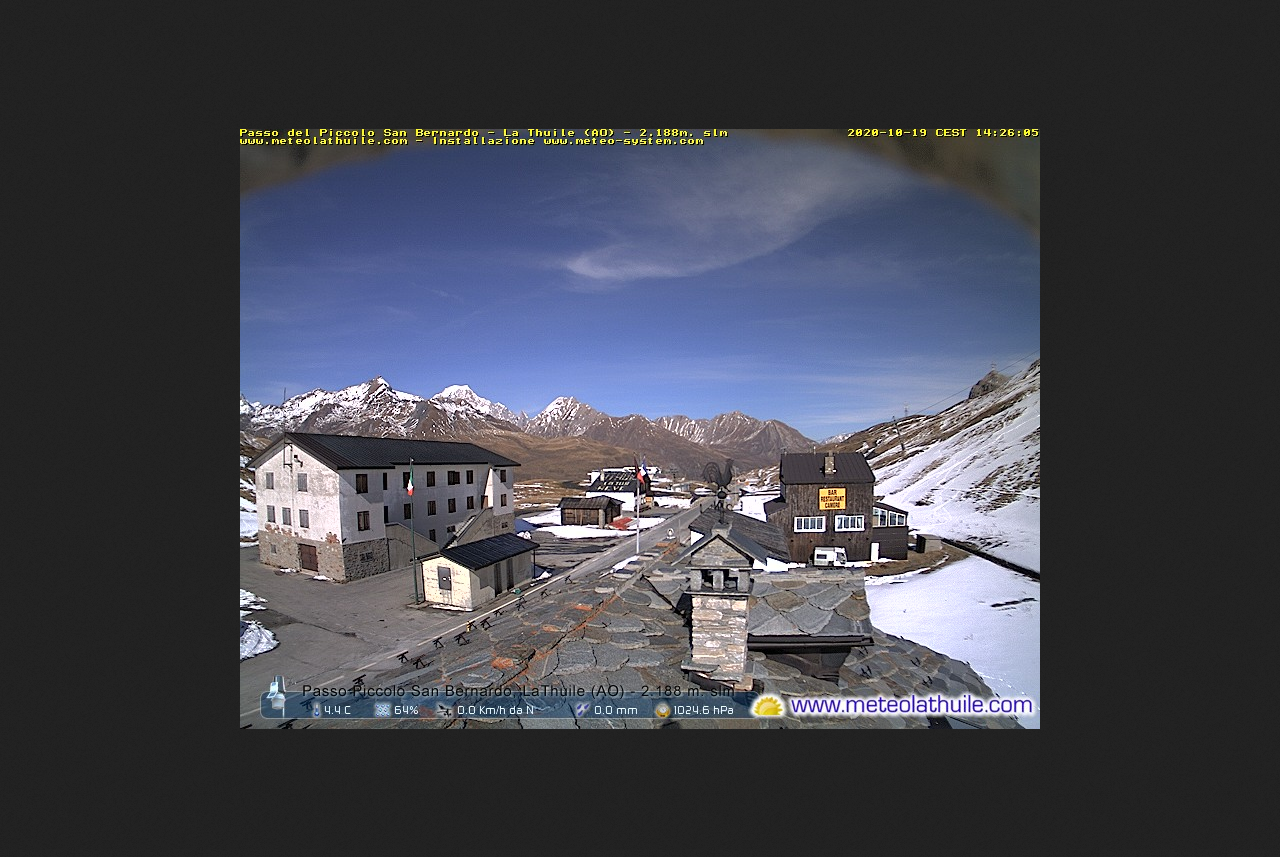no: (402, 460, 413, 499), (633, 454, 642, 484)
